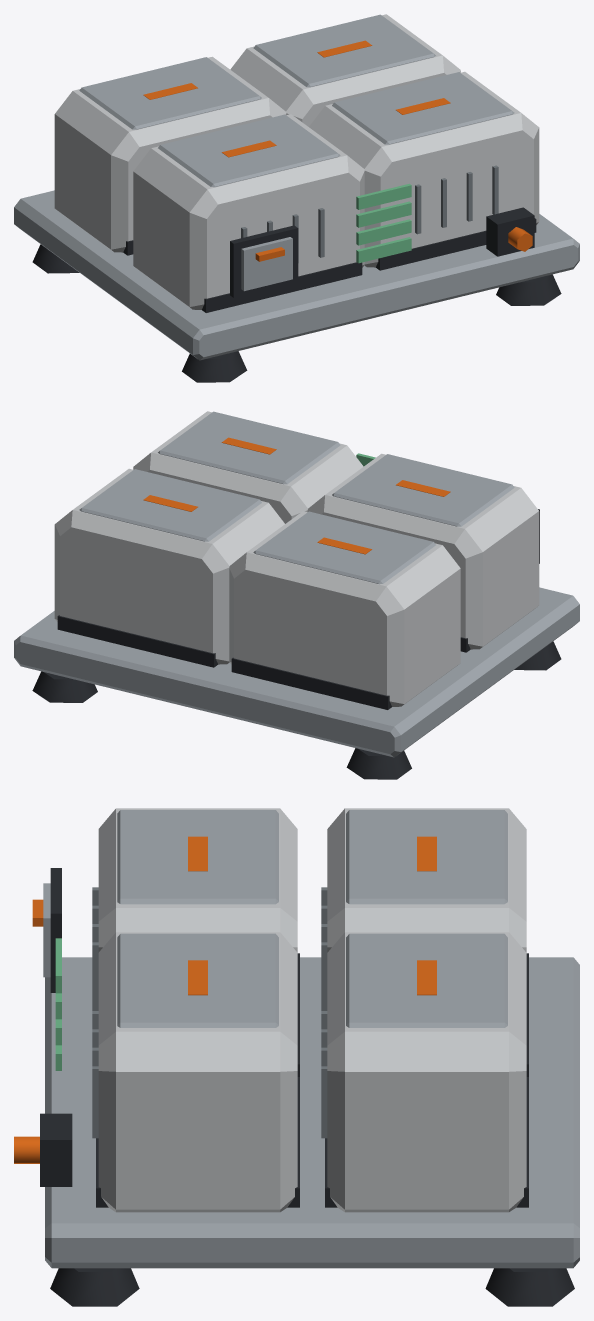
The model's file is battery_bank.glb.
3 views of the same model, one above another, from view 1: azimuth 30°, elevation 25°; view 2: azimuth 150°, elevation 25°; view 3: azimuth 270°, elevation 25° (orthographic). The views are drawn at different scales.
Visible parts, largest first — view 1: static_body_mesh.005, service_panel_mesh.005, charge_02_mesh, charge_01_mesh, charge_03_mesh, charge_04_mesh; view 2: static_body_mesh.005; view 3: static_body_mesh.005, service_panel_mesh.005.
Boxes of the visible parts, left/top/right/bottom form: static_body_mesh.005: left=14, top=14, right=579, bottom=382; service_panel_mesh.005: left=230, top=225, right=298, bottom=297; charge_02_mesh: left=356, top=219, right=411, bottom=245; charge_01_mesh: left=356, top=237, right=411, bottom=263; charge_03_mesh: left=356, top=201, right=411, bottom=227; charge_04_mesh: left=356, top=183, right=411, bottom=209; static_body_mesh.005: left=14, top=411, right=579, bottom=779; static_body_mesh.005: left=14, top=808, right=579, bottom=1306; service_panel_mesh.005: left=32, top=868, right=61, bottom=992.
Size of the model in its own units: 2.39 by 1.06 by 2.08.
